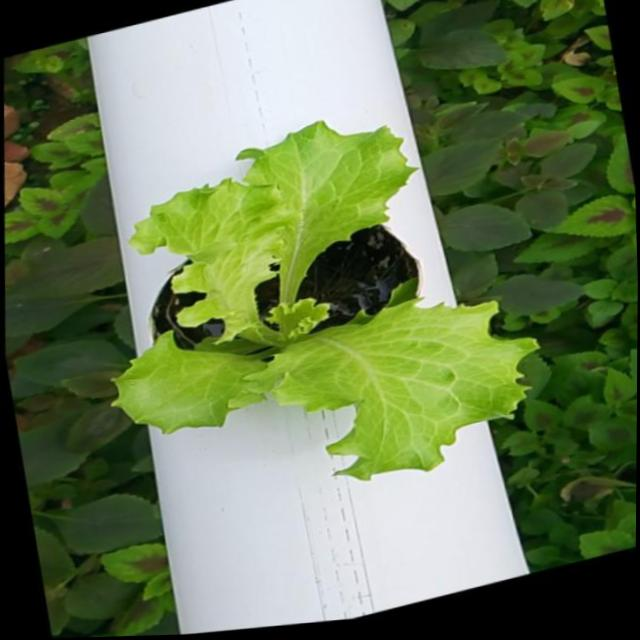Baby: (101, 123, 524, 483)
